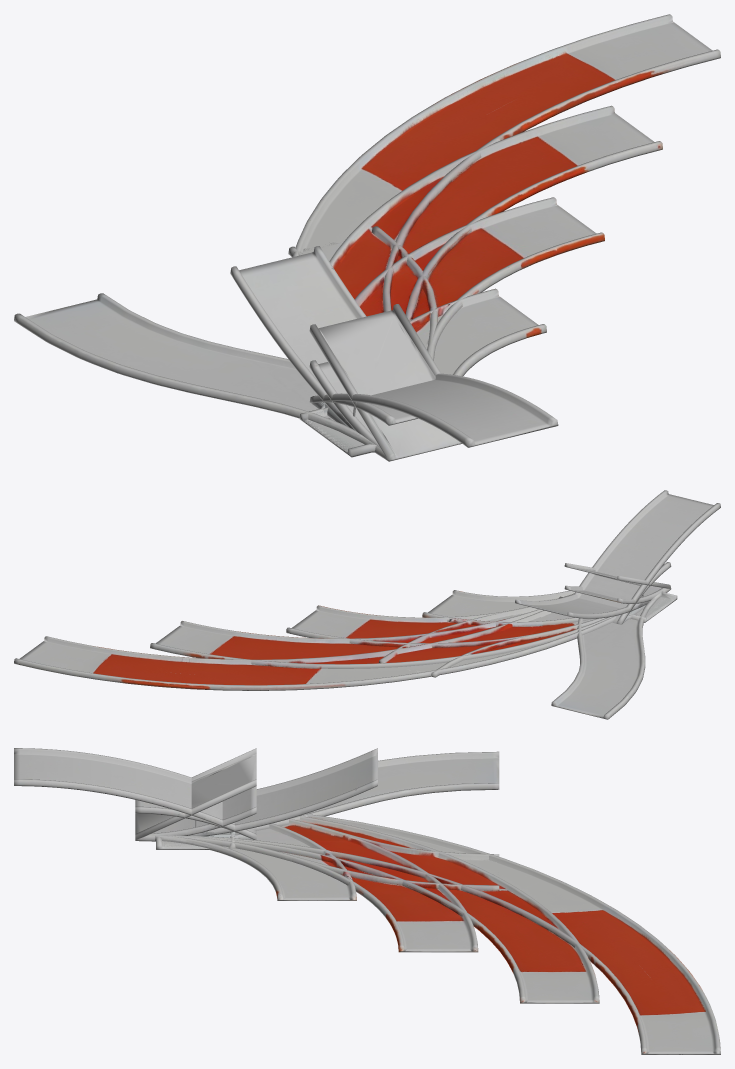
Rendered from road.glb.
3 views of the same model, one above another, from view 1: azimuth 30°, elevation 25°; view 2: azimuth 150°, elevation 25°; view 3: azimuth 270°, elevation 25° (orthographic). The views are drawn at different scales.
Parts seen in each view (by area): view 1: TurnLong3, TurnLong2, TurnSLeft, TurnLong, Slope, SlopeUpLong, SlopeDownLong, TurnShort, TurnSRight, SlopeUp, IntersectionCross, SlopeDown; view 2: TurnLong3, TurnLong2, SlopeDownLong, TurnSLeft, TurnLong, TurnShort, TurnSRight, SlopeUpLong, SlopeUp, Slope, IntersectionCross; view 3: TurnLong3, TurnLong2, TurnLong, SlopeDownLong, TurnSLeft, SlopeUpLong, TurnShort, Slope, TurnSRight, SlopeUp, SlopeDown.
Part boxes in pixels (bbox=[...]): TurnLong3: bbox=[293, 14, 720, 461]; TurnLong2: bbox=[329, 105, 662, 459]; TurnSLeft: bbox=[14, 293, 388, 461]; TurnLong: bbox=[354, 197, 604, 461]; Slope: bbox=[309, 304, 459, 459]; SlopeUpLong: bbox=[230, 246, 366, 430]; SlopeDownLong: bbox=[309, 373, 558, 447]; TurnShort: bbox=[369, 288, 546, 460]; TurnSRight: bbox=[288, 226, 437, 360]; SlopeUp: bbox=[309, 360, 380, 448]; IntersectionCross: bbox=[299, 402, 376, 457]; SlopeDown: bbox=[312, 401, 417, 425]; TurnLong3: bbox=[14, 610, 615, 690]; TurnLong2: bbox=[150, 609, 612, 668]; SlopeDownLong: bbox=[574, 490, 720, 624]; TurnSLeft: bbox=[551, 588, 671, 719]; TurnLong: bbox=[286, 593, 599, 647]; TurnShort: bbox=[422, 590, 593, 626]; TurnSRight: bbox=[379, 606, 606, 677]; SlopeUpLong: bbox=[515, 594, 649, 618]; SlopeUp: bbox=[564, 585, 665, 603]; Slope: bbox=[564, 563, 670, 588]; IntersectionCross: bbox=[559, 591, 677, 620]; TurnLong3: bbox=[189, 814, 720, 1054]; TurnLong2: bbox=[182, 816, 599, 1003]; TurnLong: bbox=[168, 819, 478, 952]; SlopeDownLong: bbox=[14, 748, 256, 839]; TurnSLeft: bbox=[223, 751, 499, 833]; SlopeUpLong: bbox=[188, 748, 377, 836]; TurnShort: bbox=[151, 823, 356, 900]; Slope: bbox=[135, 748, 256, 839]; TurnSRight: bbox=[135, 819, 499, 890]; SlopeUp: bbox=[147, 786, 256, 835]; SlopeDown: bbox=[135, 800, 255, 839].
Bounding box in the file's own units: 1 × 0.0939 × 1.
18 materials, 18 textured.
